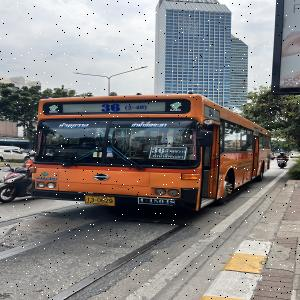BMTA-bus: (26, 94, 273, 212)
Bus Line Number: (94, 102, 152, 114)
Bus Side Number: (136, 196, 179, 206)
Destination Sign: (144, 146, 190, 161)
